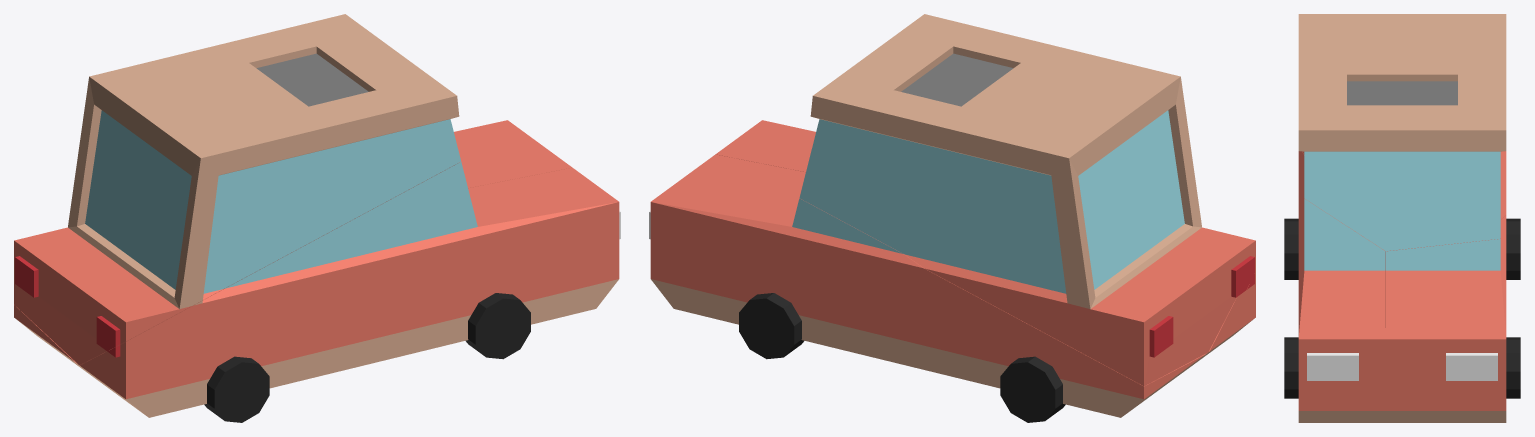
File: Car 2 Fractured.fbx
3 views of the same model, side by side, from view 1: azimuth 30°, elevation 25°; view 2: azimuth 150°, elevation 25°; view 3: azimuth 270°, elevation 25° (orthographic). The views are drawn at different scales.
Visible parts, largest first — view 1: Car_2_Breaking_cell.001, Car_2_Breaking_cell.002, Car_2_Breaking_cell; view 2: Car_2_Breaking_cell.001, Car_2_Breaking_cell, Car_2_Breaking_cell.002; view 3: Car_2_Breaking_cell.001, Car_2_Breaking_cell, Car_2_Breaking_cell.002.
Boxes of the visible parts, <box> form: Car_2_Breaking_cell.001: <box>14,14,461,365</box>; Car_2_Breaking_cell.002: <box>80,162,620,422</box>; Car_2_Breaking_cell: <box>14,120,571,380</box>; Car_2_Breaking_cell.001: <box>799,14,1255,386</box>; Car_2_Breaking_cell: <box>649,154,1206,422</box>; Car_2_Breaking_cell.002: <box>715,120,1255,368</box>; Car_2_Breaking_cell.001: <box>1298,14,1506,251</box>; Car_2_Breaking_cell: <box>1385,215,1520,422</box>; Car_2_Breaking_cell.002: <box>1284,151,1385,422</box>.
Size of the model in its own units: 521 by 264 by 227.
